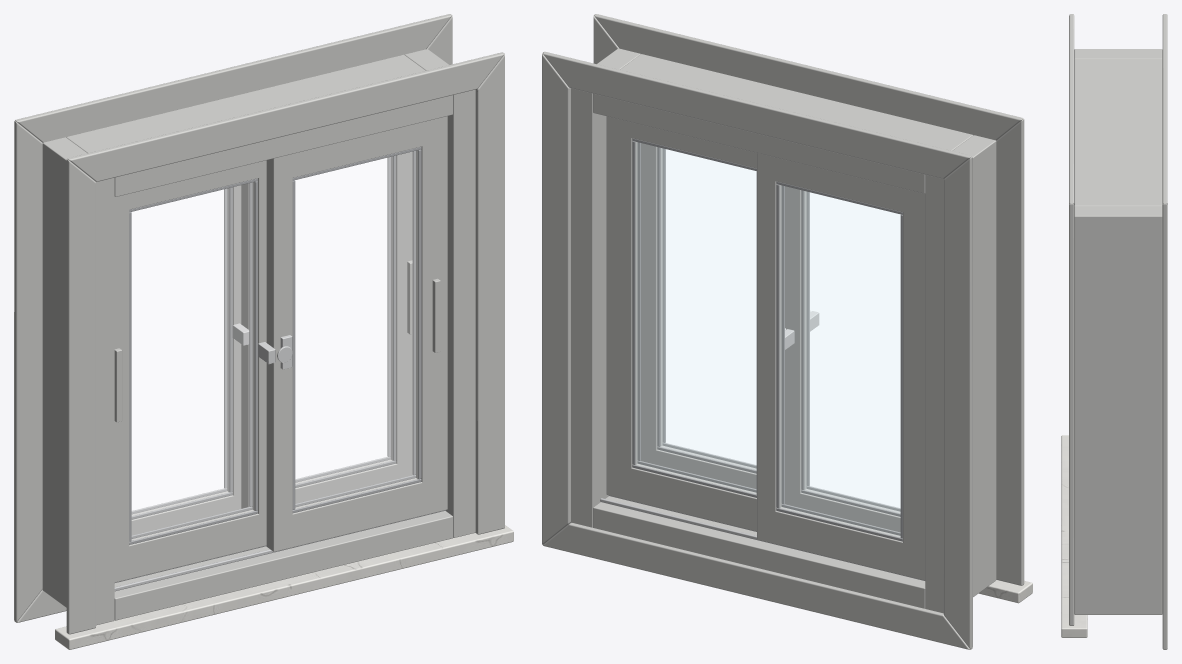
The model's file is window_small.glb.
The picture shows the model from 3 angles, left to right: view 1: azimuth 30°, elevation 25°; view 2: azimuth 150°, elevation 25°; view 3: azimuth 270°, elevation 25°; orthographic projection. The views are drawn at different scales.
Visible parts, largest first — view 1: window_small_glass, window_small_casing, window_small_frame, window_small_sash_inner_r, window_small_sash_inner_l, window_small_sash_outer_r, window_small_sill, window_small_sash_outer_l, window_small_hardware; view 2: window_small_glass, window_small_casing, window_small_frame, window_small_sash_outer_l, window_small_sash_outer_r, window_small_sash_inner_r, window_small_sash_inner_l, window_small_sill; view 3: window_small_frame, window_small_casing, window_small_sill.
Boxes of the visible parts, x1,y1,x2,y2 form: window_small_glass: [132, 151, 417, 539]; window_small_casing: [14, 14, 504, 634]; window_small_frame: [42, 49, 475, 625]; window_small_sash_inner_r: [266, 116, 447, 551]; window_small_sash_inner_l: [114, 160, 266, 582]; window_small_sash_outer_r: [241, 151, 412, 508]; window_small_sill: [55, 525, 513, 649]; window_small_sash_outer_l: [131, 185, 241, 535]; window_small_hardware: [114, 260, 440, 422]; window_small_glass: [636, 142, 900, 536]; window_small_casing: [542, 14, 1024, 649]; window_small_frame: [570, 48, 996, 613]; window_small_sash_outer_l: [757, 153, 925, 580]; window_small_sash_outer_r: [606, 116, 756, 531]; window_small_sash_inner_r: [641, 143, 756, 489]; window_small_sash_inner_l: [785, 186, 900, 532]; window_small_sill: [978, 580, 1032, 603]; window_small_frame: [1074, 49, 1162, 614]; window_small_casing: [1069, 14, 1167, 649]; window_small_sill: [1061, 435, 1087, 637].
Bounding box in the file's own units: 1.04 × 1.12 × 0.242.
6 materials, 1 textured.
